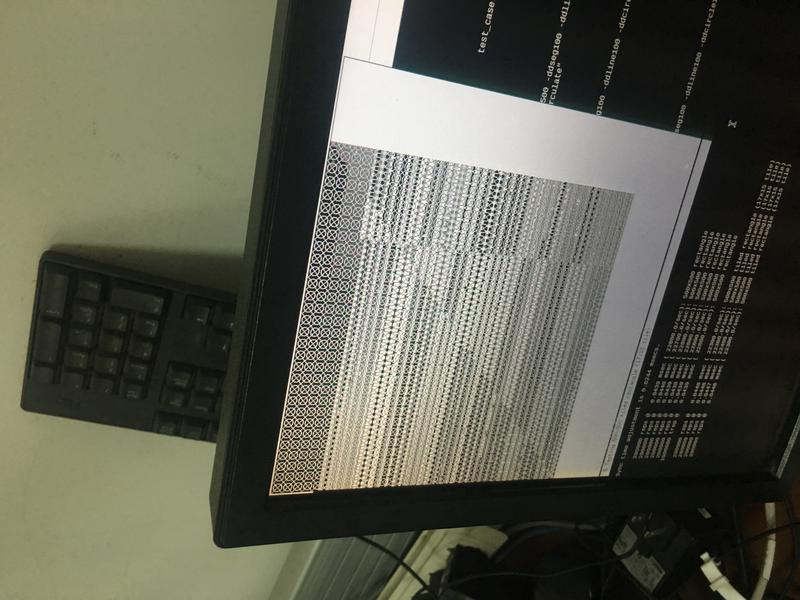xrandr_pass: (256, 38, 717, 506)
